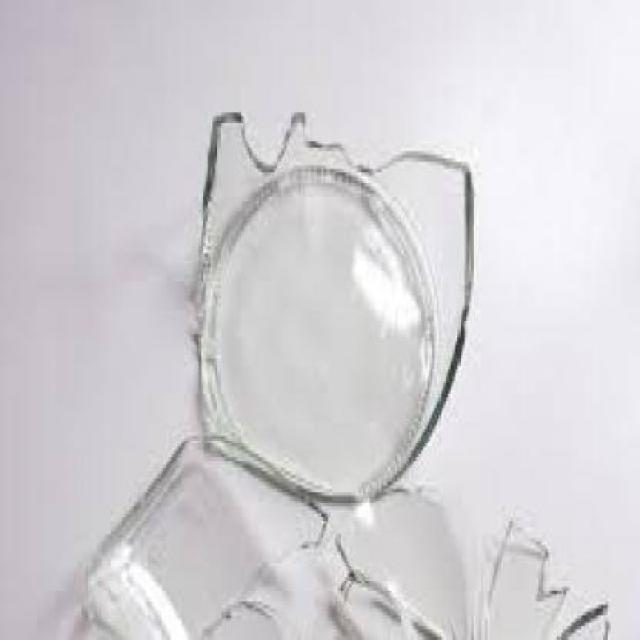kaca: (191, 110, 472, 498), (82, 432, 323, 637), (334, 481, 486, 637), (486, 517, 565, 637), (560, 598, 606, 637)
